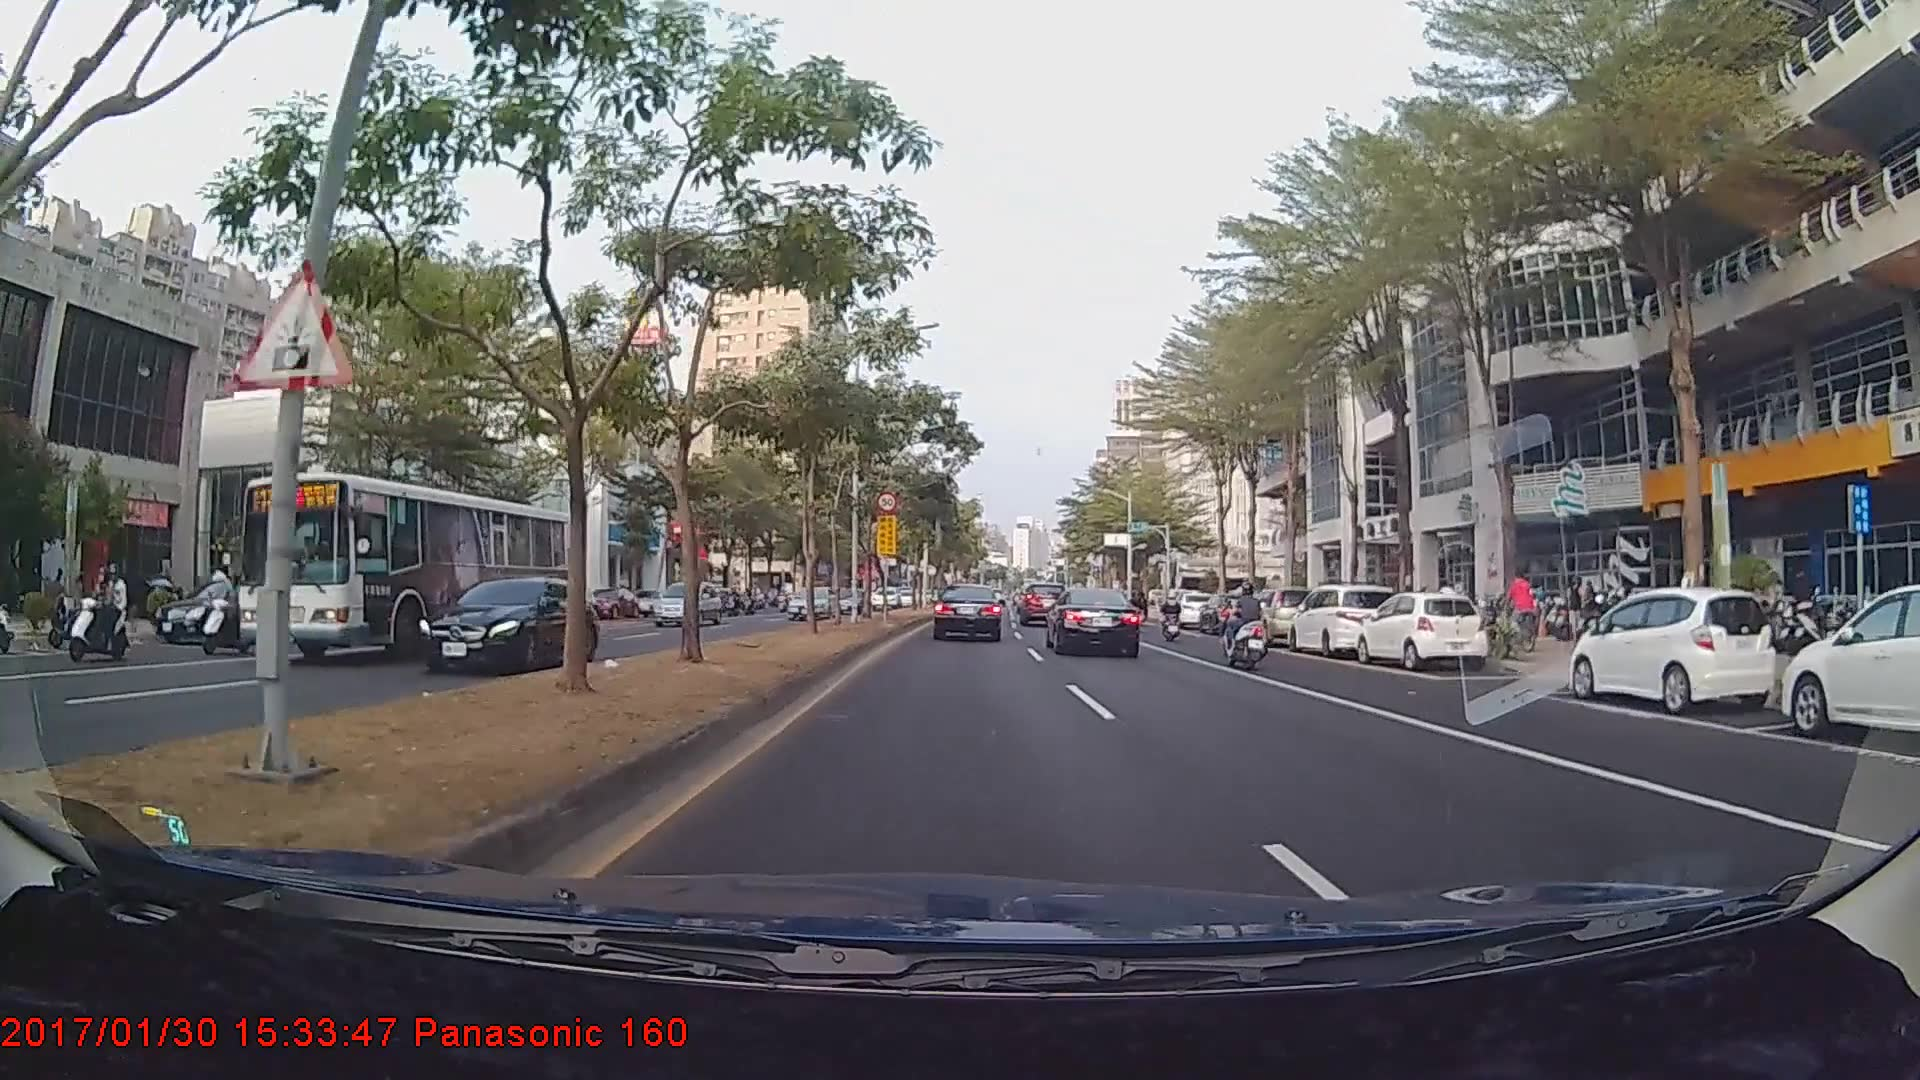rider: (66, 563, 137, 660), (1218, 582, 1284, 669), (1498, 569, 1545, 656), (1220, 587, 1273, 661), (1159, 586, 1188, 643)
vehicle: (226, 465, 576, 663), (1571, 585, 1766, 712), (1778, 583, 1920, 746), (417, 571, 603, 673), (1358, 590, 1484, 671), (152, 577, 298, 646), (1289, 582, 1397, 658), (1048, 585, 1142, 657), (1242, 585, 1325, 644), (933, 582, 1005, 642), (651, 579, 719, 624), (1019, 581, 1068, 626), (786, 583, 837, 618)
